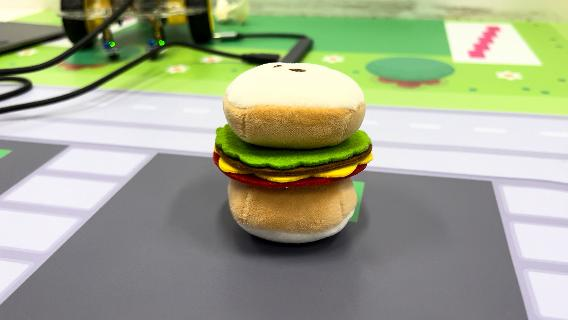sandwich: (211, 59, 376, 245)
